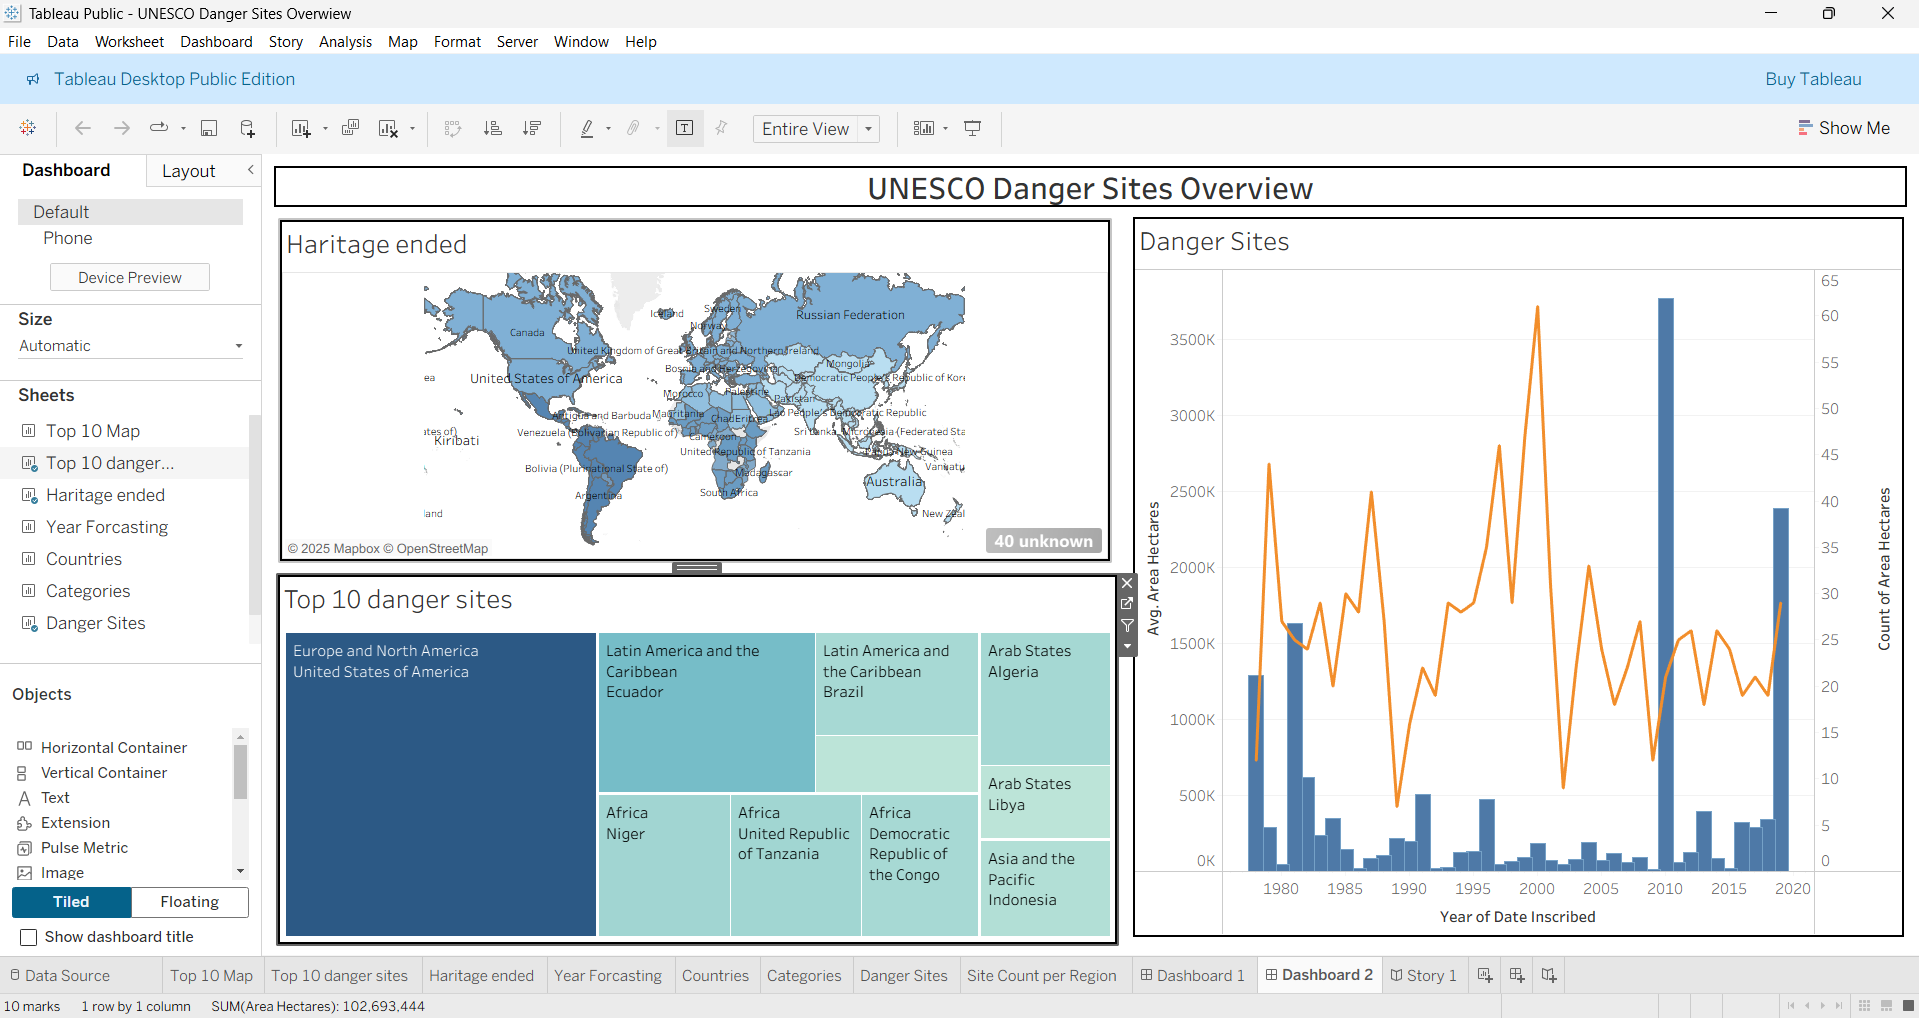

The page's visual inventory and layout, read from the dashboard file:
{"tool":"tableau","page":{"name":"Dashboard 2","canvas":[1000,1000],"units":"permille","ordinal":1},"visuals":[{"type":"title","box":[4.8,10,990.3,61.2]},{"type":"worksheet","title":"Danger Sites","mark":"Automatic","rows":["area_hectares","area_hectares"],"cols":["date_inscribed"],"box":[525.6,78.7,465.3,898.9]},{"type":"worksheet","title":"Haritage ended","mark":"Multipolygon","box":[10.9,82.4,500.9,425.7]},{"type":"worksheet","title":"Top 10 danger sites","mark":"Automatic","box":[9.7,525.6,506.3,460.7]}]}

Visuals, with their boxes on the dashboard's canvas, which has no fixed pixel size, in thousandths of its width and height (x1, y1, x2, y2). These are canvas units, not pixel positions in the 1919x1018 screenshot, which may show the page scaled, cropped or inside an application window:
title: [5, 10, 995, 71]
"Danger Sites" worksheet: [526, 79, 991, 978]
"Haritage ended" worksheet (Multipolygon marks): [11, 82, 512, 508]
"Top 10 danger sites" worksheet: [10, 526, 516, 986]
